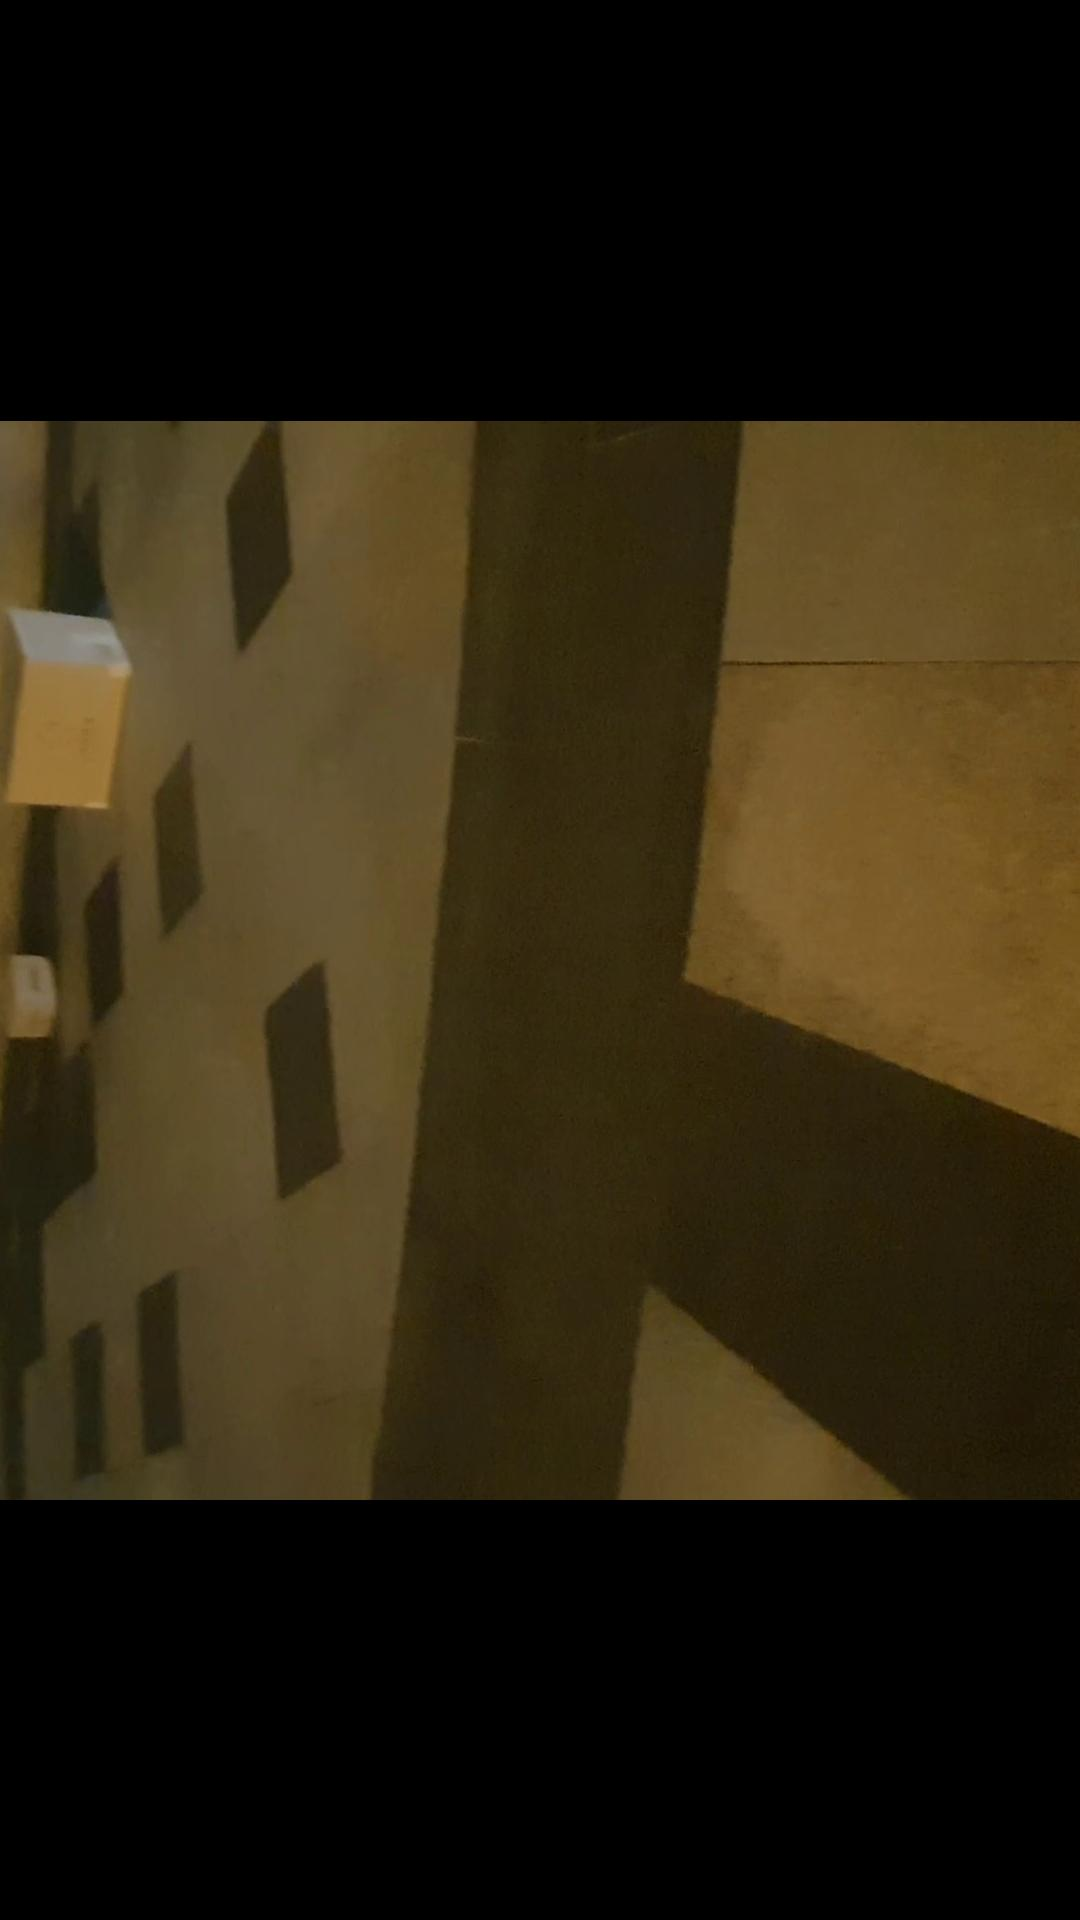Box: (0, 611, 125, 808), (0, 945, 63, 1047)
